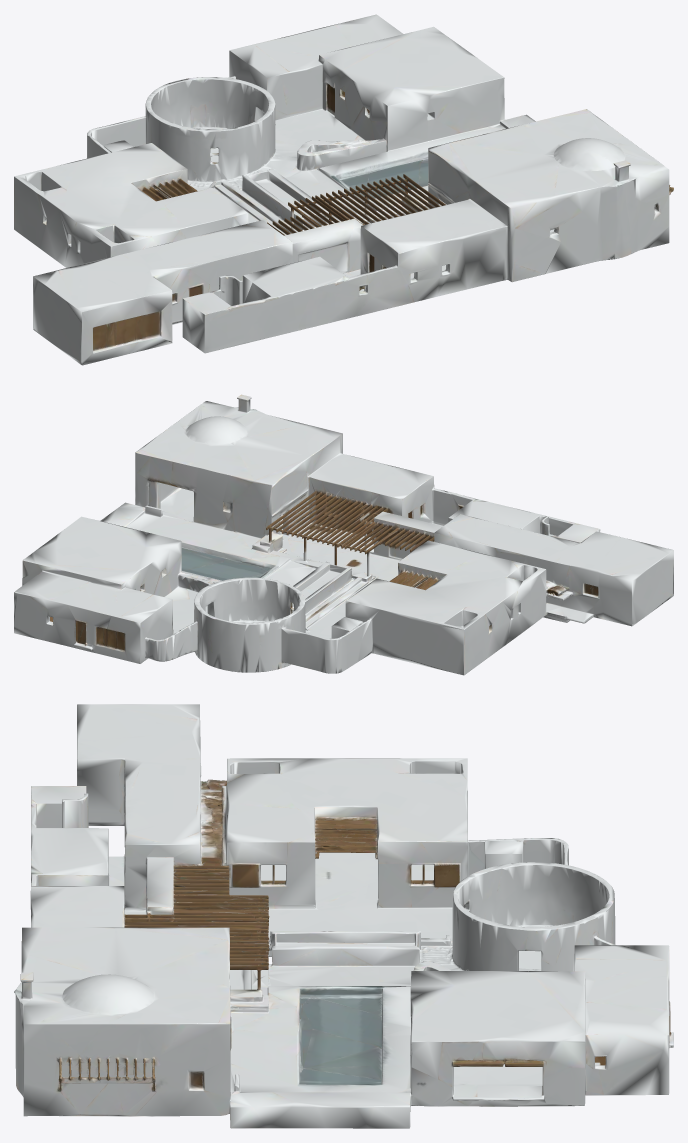
Rendered from villa-M-mobile.glb.
The picture shows the model from 3 angles, top to bottom: view 1: azimuth 30°, elevation 25°; view 2: azimuth 150°, elevation 25°; view 3: azimuth 270°, elevation 25°; orthographic projection. The views are drawn at different scales.
Size of the model in its own units: 1.89 by 0.2982 by 1.47.
Materials: 1 (1 with a texture image).
